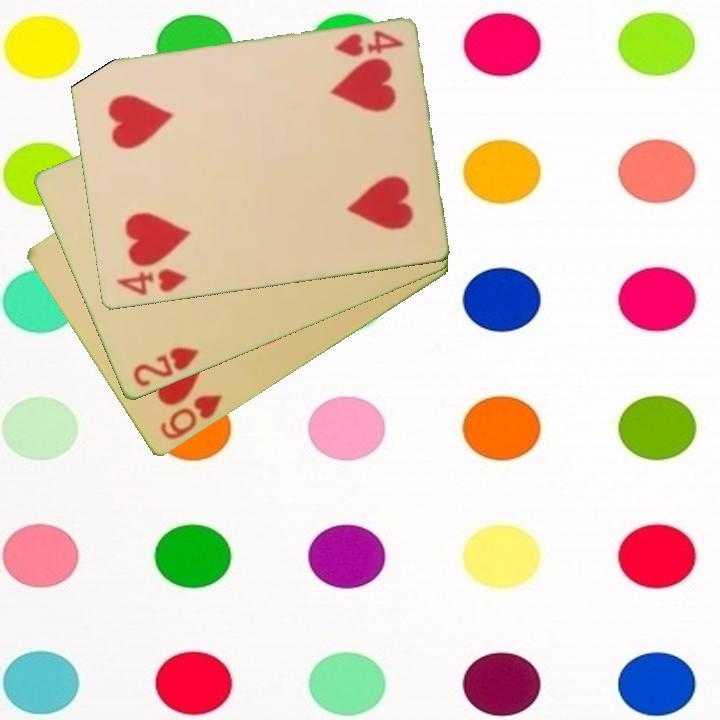2h: (129, 344, 202, 390)
4h: (113, 265, 190, 299), (330, 27, 406, 60)
6h: (156, 391, 226, 444)
